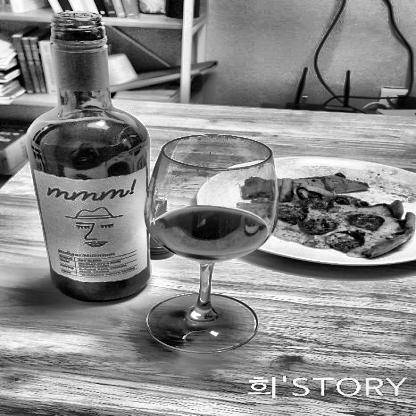umm: (38, 168, 149, 289)
